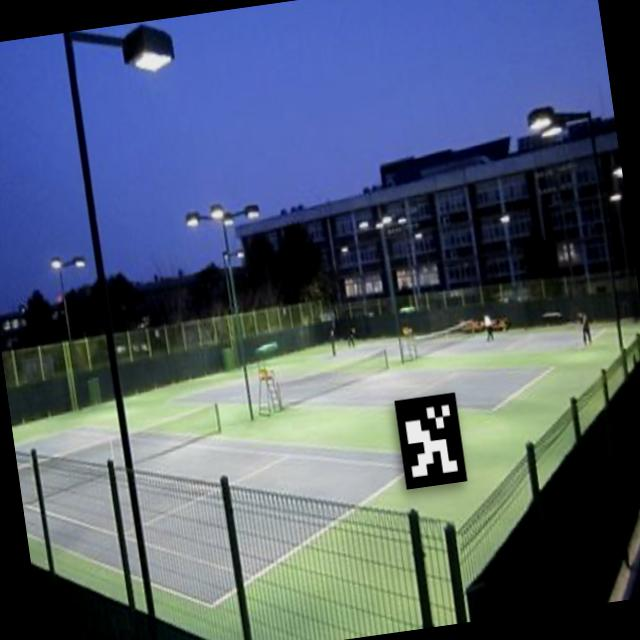marker: (385, 380, 474, 498)
